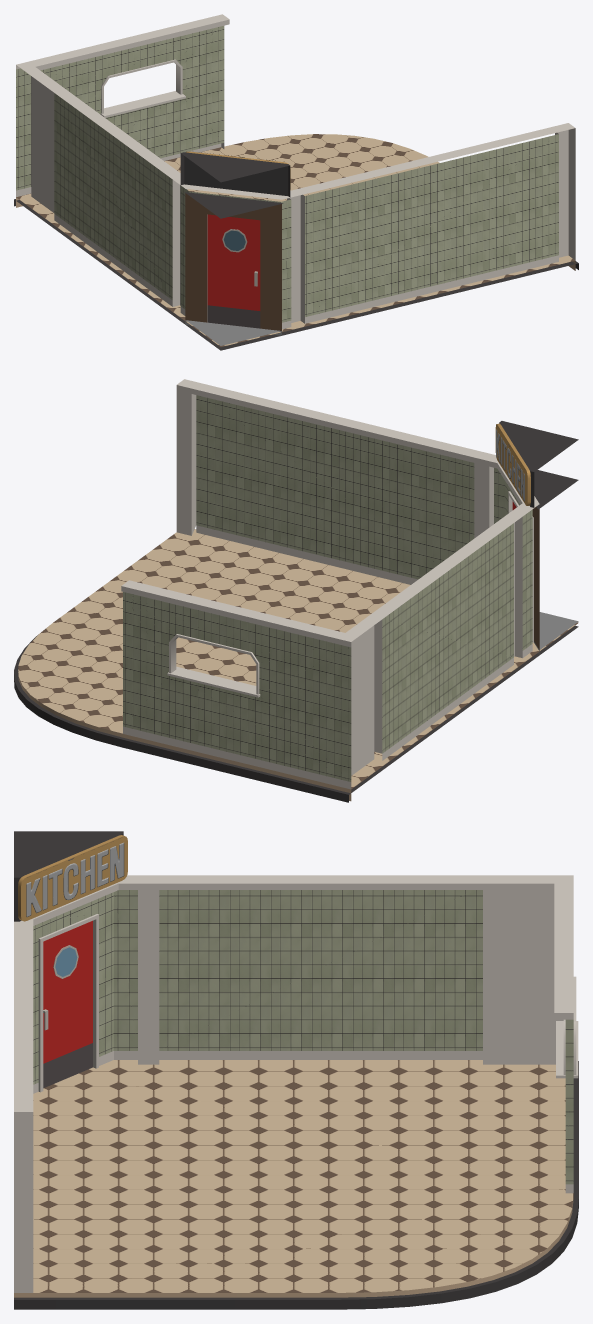
File: interior_B_001.fbx
3 views of the same model, one above another, from view 1: azimuth 30°, elevation 25°; view 2: azimuth 150°, elevation 25°; view 3: azimuth 270°, elevation 25° (orthographic). The views are drawn at different scales.
Parts seen in each view (by area): view 1: interior_B_001; view 2: interior_B_001; view 3: interior_B_001.
Part boxes in pixels (bbox=[...]): interior_B_001: bbox=[14, 14, 578, 350]; interior_B_001: bbox=[14, 379, 578, 802]; interior_B_001: bbox=[14, 831, 578, 1309].
Size of the model in its own units: 707 by 331 by 707.
14 materials, 3 textured.
